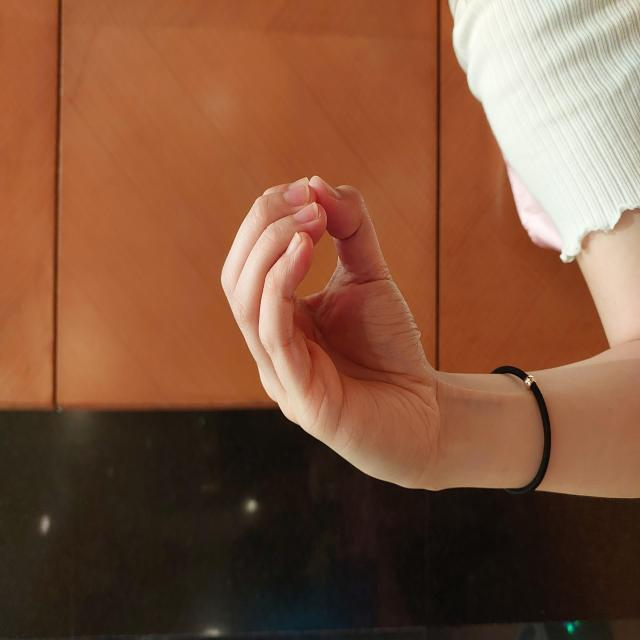O: (171, 217, 467, 438)
